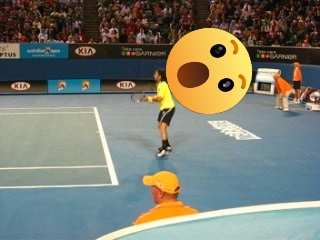wow: (166, 28, 252, 114)
